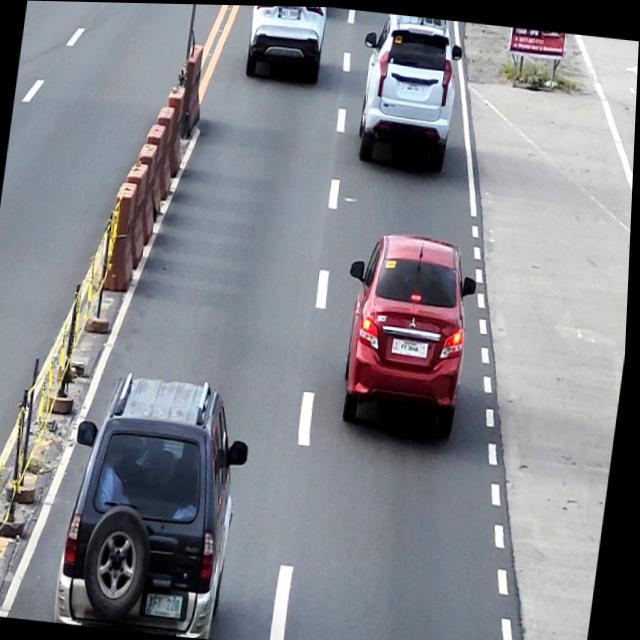Car: (56, 365, 261, 639), (333, 225, 484, 435), (349, 9, 466, 170), (243, 4, 327, 83)
License-Plate: (149, 590, 189, 618), (392, 332, 432, 356), (280, 5, 299, 19), (405, 79, 421, 91)
